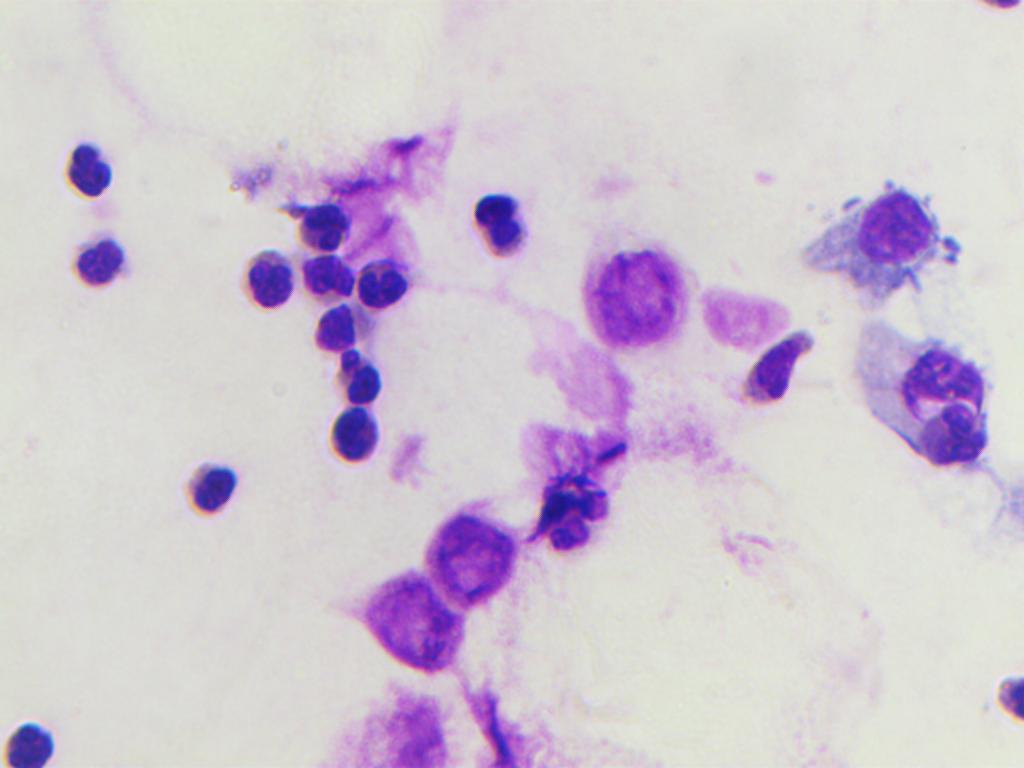epithelial: (795, 174, 956, 296), (583, 205, 700, 351), (418, 507, 522, 609), (364, 572, 458, 673)
lymphocyte: (894, 352, 992, 413)
neutrophil: (516, 462, 618, 557), (742, 322, 825, 412), (309, 403, 395, 488), (452, 175, 537, 258), (52, 226, 137, 306), (45, 132, 130, 202), (275, 182, 362, 250), (230, 231, 302, 313), (900, 406, 992, 470), (173, 456, 248, 532), (304, 346, 397, 405), (292, 296, 374, 358), (357, 243, 418, 313), (291, 244, 359, 303), (4, 721, 58, 768), (995, 658, 1024, 736)
